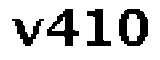0: (116, 7, 152, 48)
1: (82, 7, 113, 47)
4: (45, 7, 80, 49)
v: (9, 16, 43, 49)
